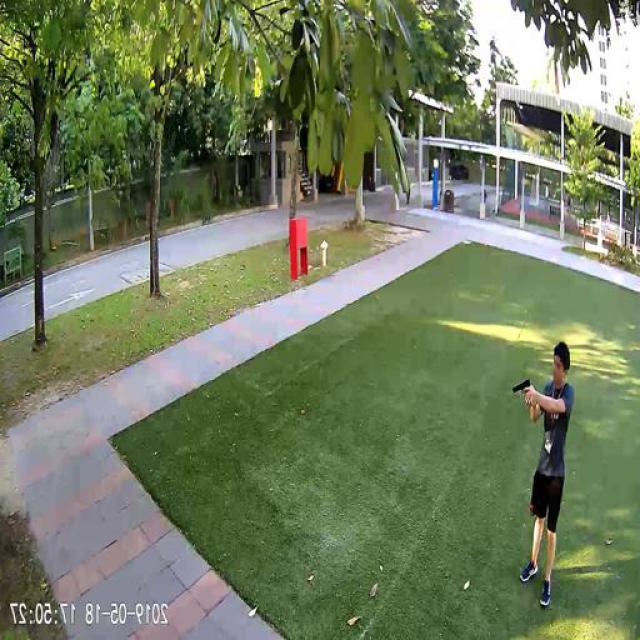Gun: (514, 374, 532, 395)
